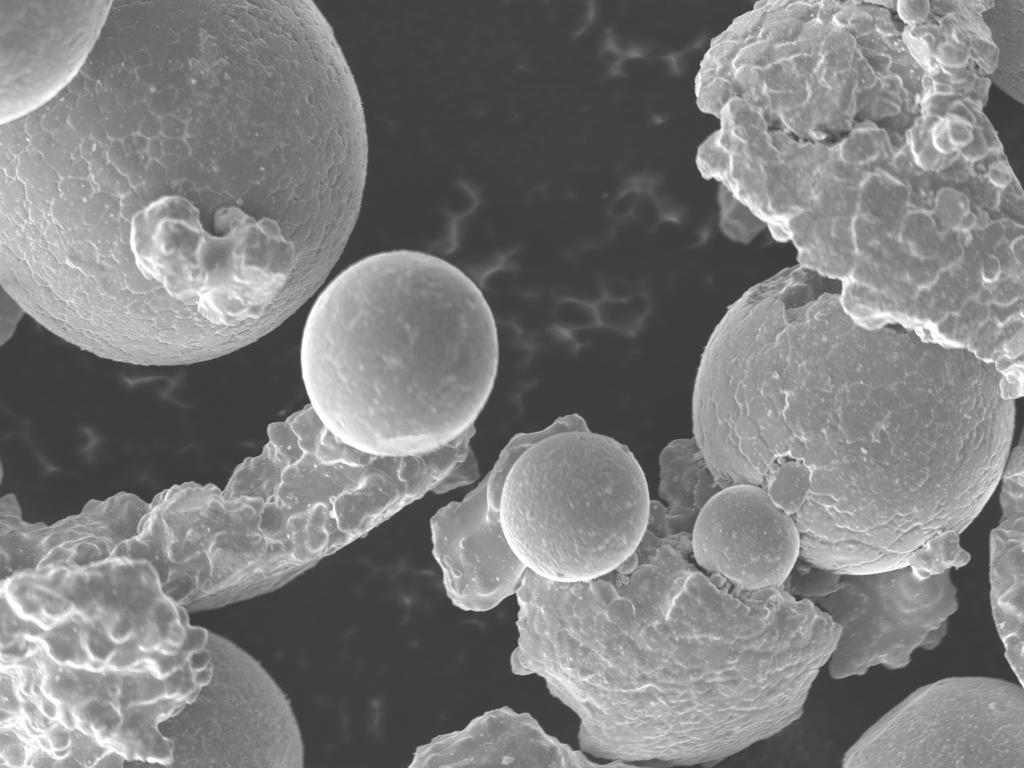Powder: (0, 406, 472, 765), (512, 440, 958, 763), (0, 0, 368, 364), (696, 0, 1024, 398), (694, 268, 1014, 587), (432, 414, 650, 610), (302, 250, 498, 456), (158, 632, 302, 765), (842, 678, 1024, 766), (0, 0, 111, 123), (410, 706, 598, 768), (990, 432, 1024, 685), (982, 0, 1024, 103)
